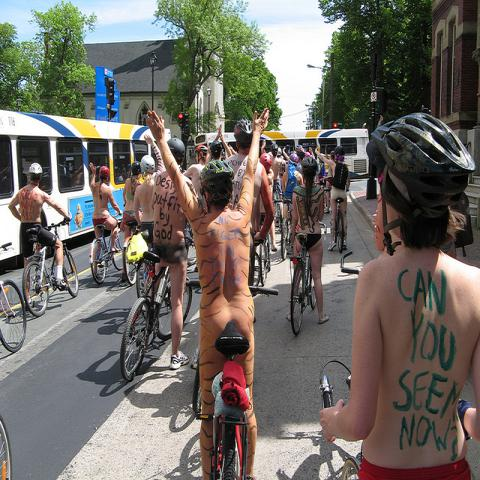bus: (0, 110, 151, 266), (194, 128, 369, 180)
